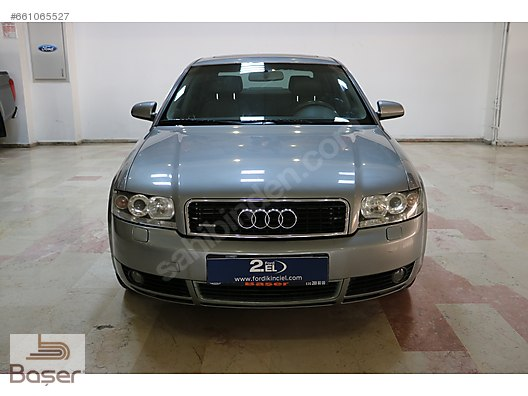audi: (233, 207, 298, 228)
